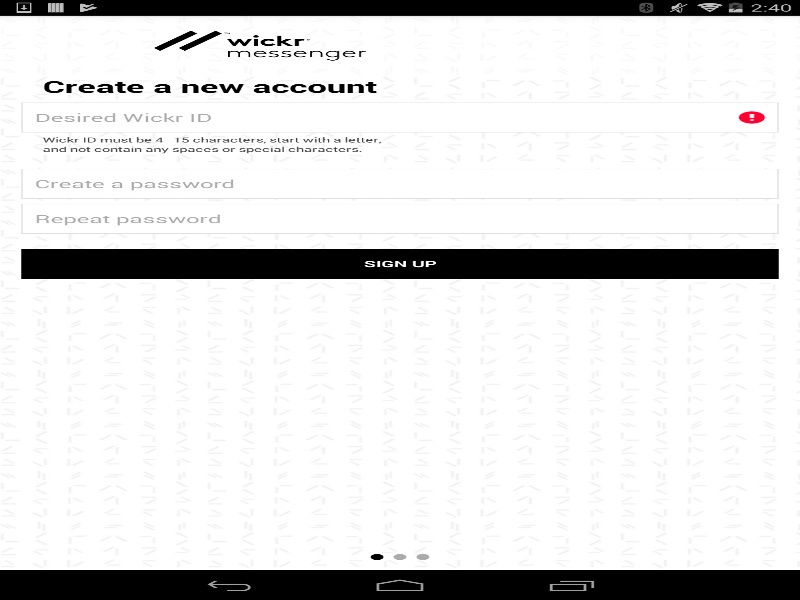Button: (21, 248, 778, 278)
Input: (21, 102, 778, 132), (21, 168, 778, 198), (21, 203, 778, 233)
